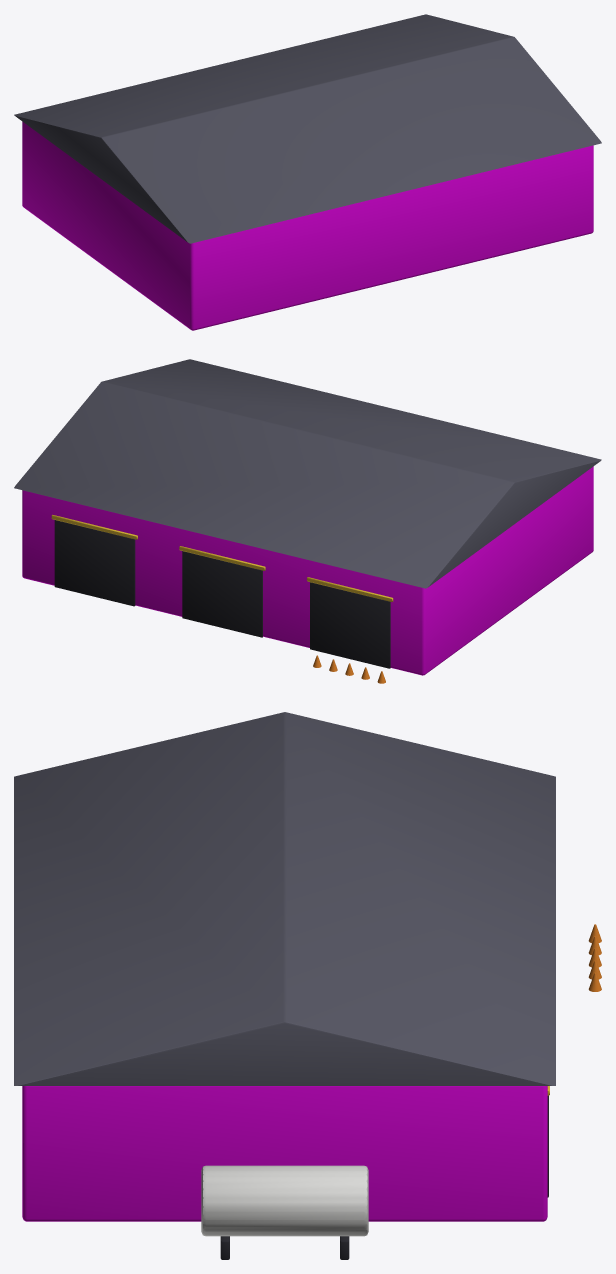
The model's file is Poi_Depot.fbx.
The picture shows the model from 3 angles, top to bottom: view 1: azimuth 30°, elevation 25°; view 2: azimuth 150°, elevation 25°; view 3: azimuth 270°, elevation 25°; orthographic projection. The views are drawn at different scales.
Visible parts, largest first — view 1: Poi_Depot; view 2: Poi_Depot; view 3: Poi_Depot.
Part boxes in pixels (bbox=[...]): Poi_Depot: bbox=[14, 14, 601, 330]; Poi_Depot: bbox=[14, 359, 601, 683]; Poi_Depot: bbox=[14, 712, 601, 1259].
Size of the model in its own units: 34.39 by 9.49 by 24.63.
